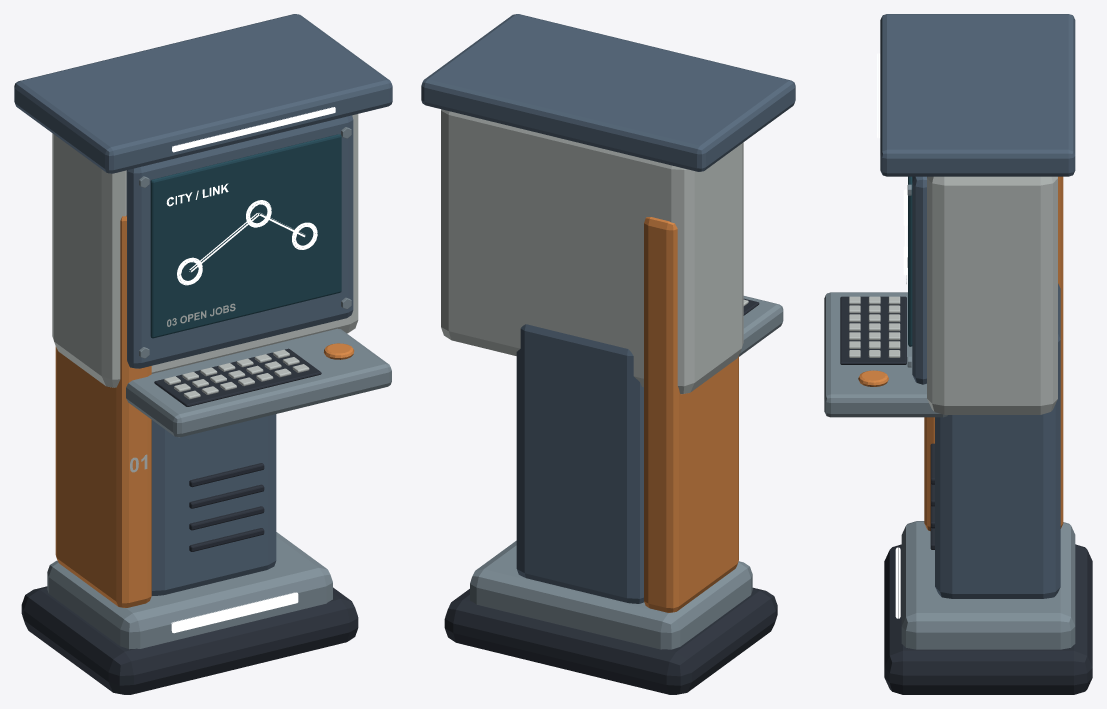
Rendered from terminal.glb.
3 views of the same model, side by side, from view 1: azimuth 30°, elevation 25°; view 2: azimuth 150°, elevation 25°; view 3: azimuth 270°, elevation 25° (orthographic).
Parts seen in each view (by area): view 1: Body, Signal; view 2: Body; view 3: Body, Signal.
Part boxes in pixels (x1,y1,x2,y2): Body: (14,14,392,694); Signal: (166,107,335,633); Body: (421,14,795,694); Body: (824,14,1092,694); Signal: (877,53,907,618).
Bounding box in the file's own units: 1.25 × 2.33 × 1.
